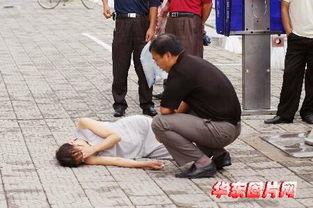FallenBody: (152, 40, 238, 180), (53, 110, 163, 166), (105, 0, 156, 110)
